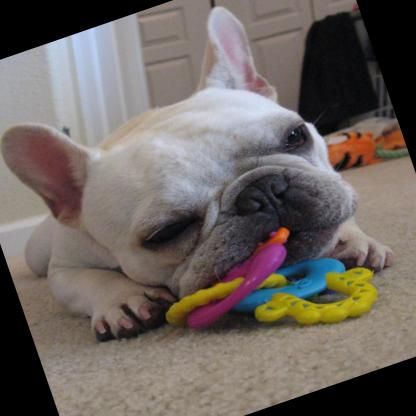French_bulldog: (0, 0, 401, 384)
